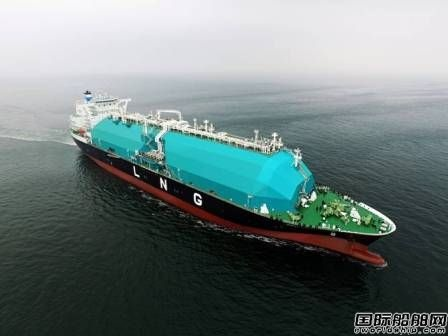Cargoship: (72, 88, 395, 266)
